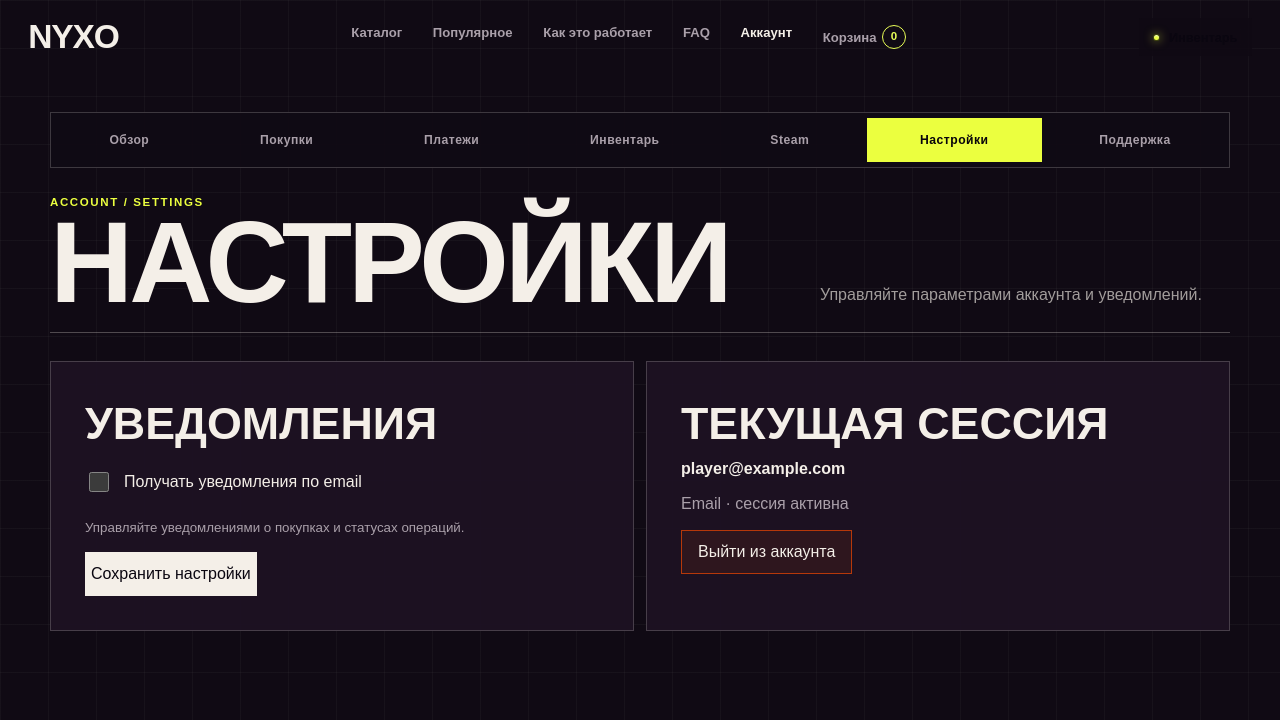
Test: AccountPage › persists settings, confirms the change, and logs out
Click the checkbox labelled "Получать уведомления по email".
click(99, 482)  # box [89,472,109,492]
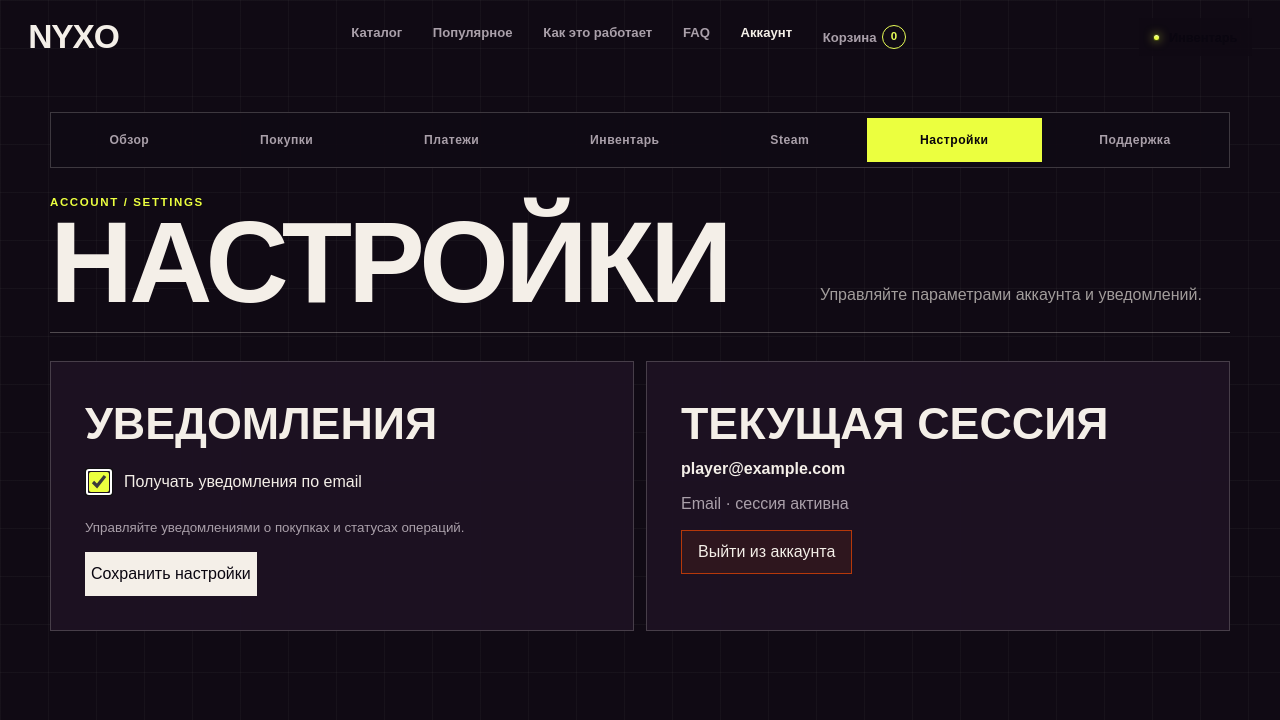
Click the button "Сохранить настройки".
click(171, 574)  # box [85,552,257,596]
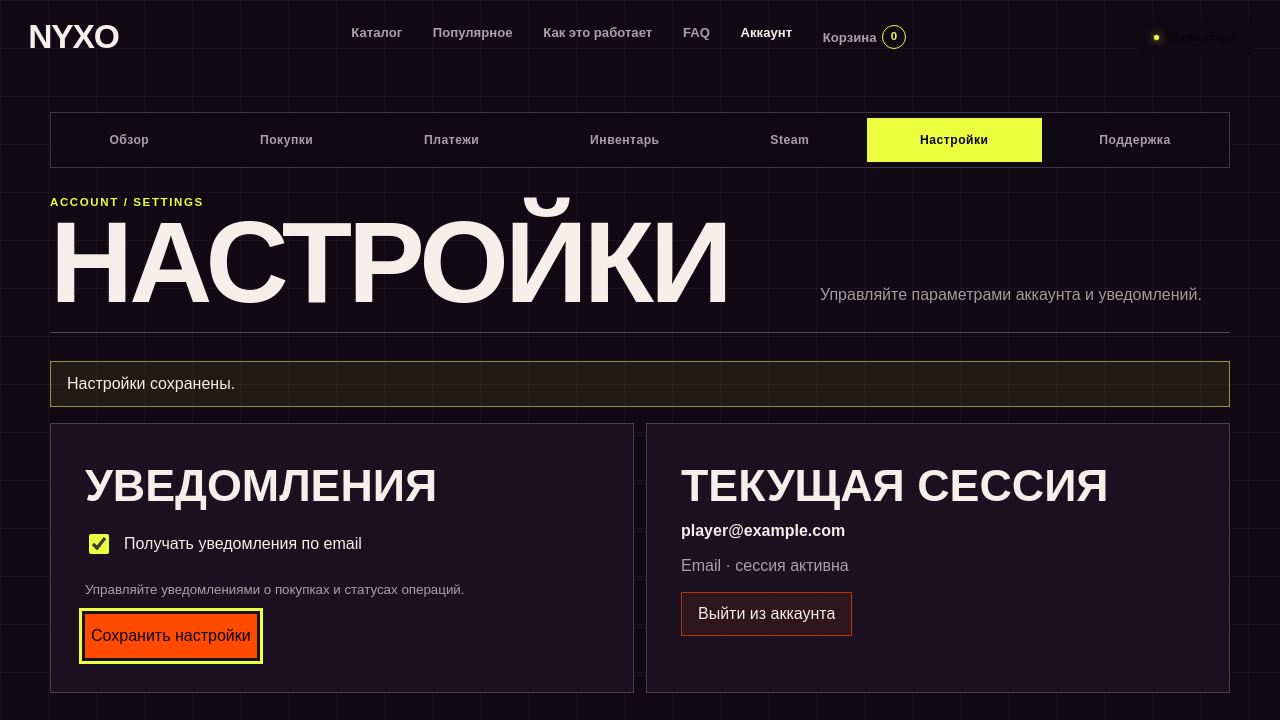
Check: the message shows "Настройки сохранены", box [67,375,235,392]
Click the button "Выйти из аккаунта".
click(767, 614)  # box [681,592,852,636]
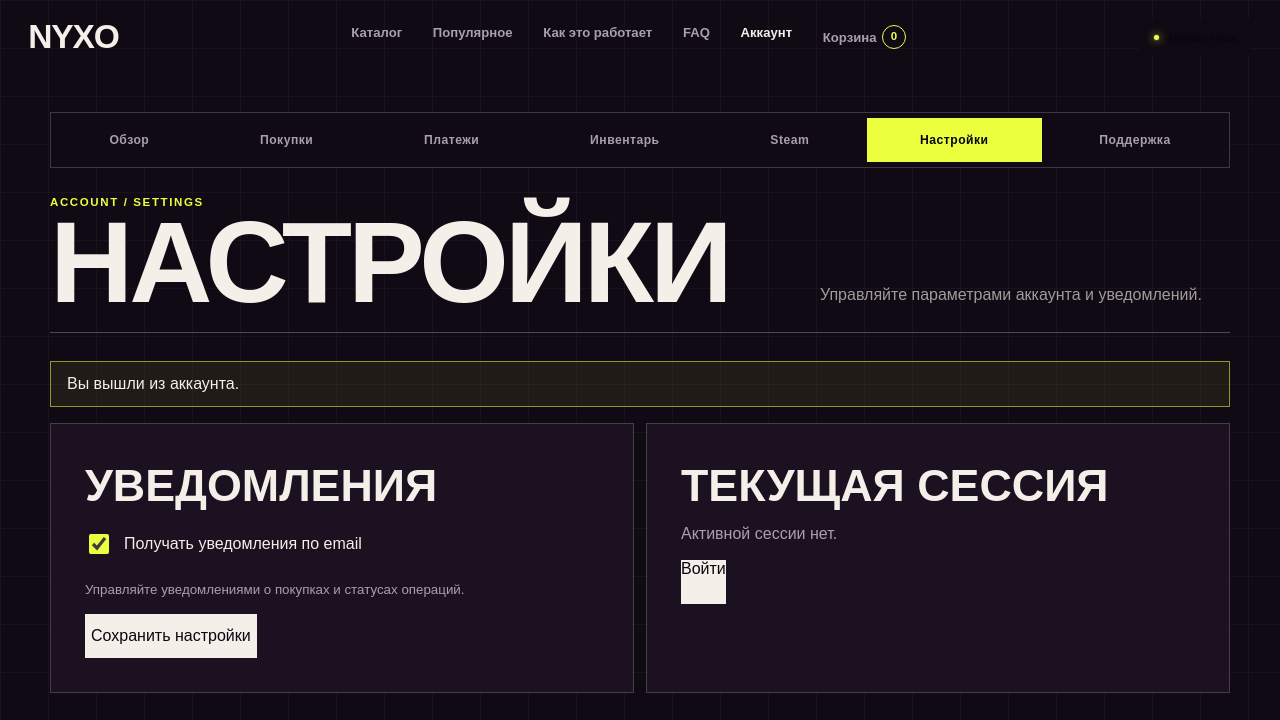
Check: the message shows "Вы вышли из аккаунта", box [67,375,239,392]
